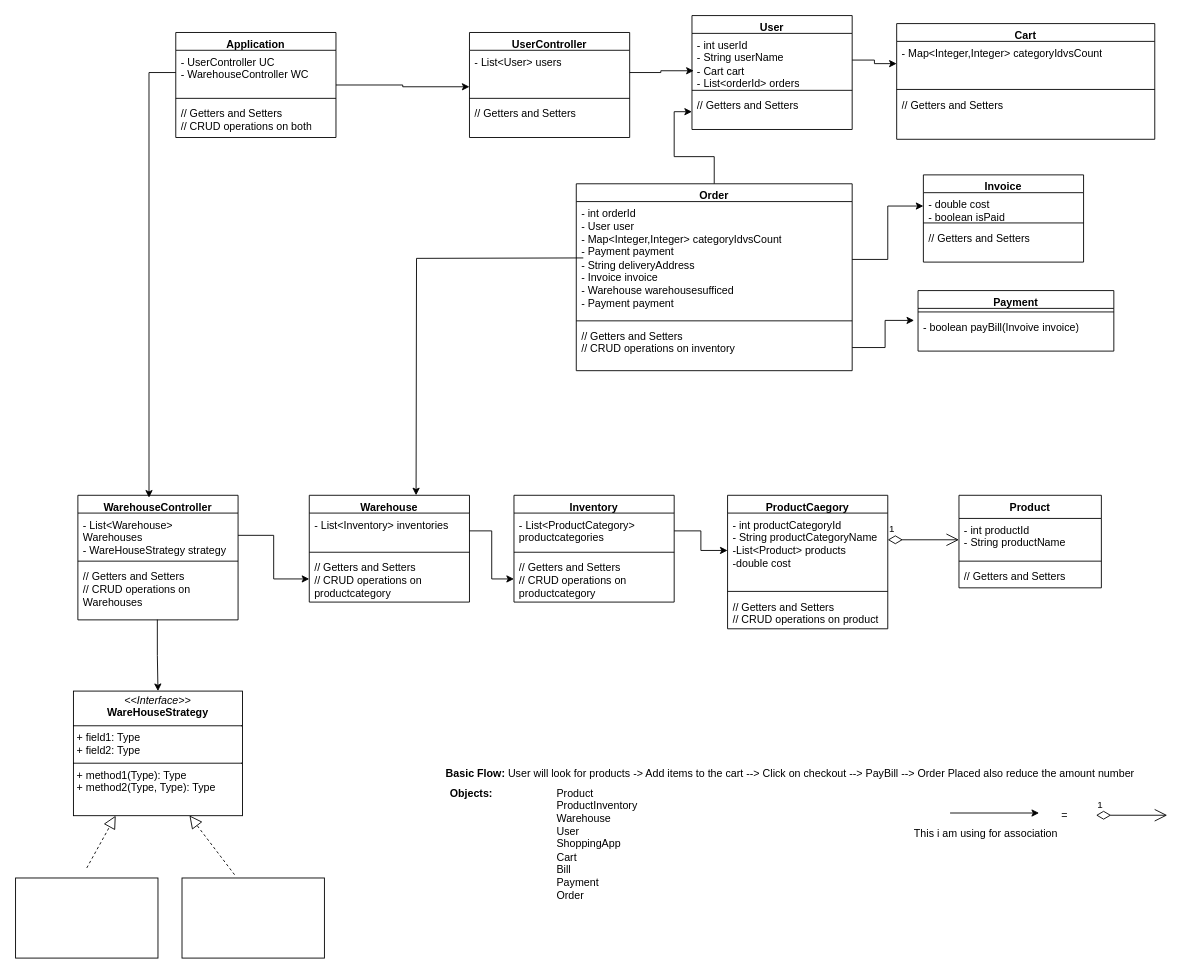
Image size: 1198x974. Some labels were removed from this diagram. The shapes that lost their labels are listed below. From the top down, each one's centre as x and y in pixels, then its label:
At point (86, 917): "NearestWarehouseStrategy + field: Type + method(): Type".
At point (252, 917): "OtherStrategy + field: Type + method(): Type".
